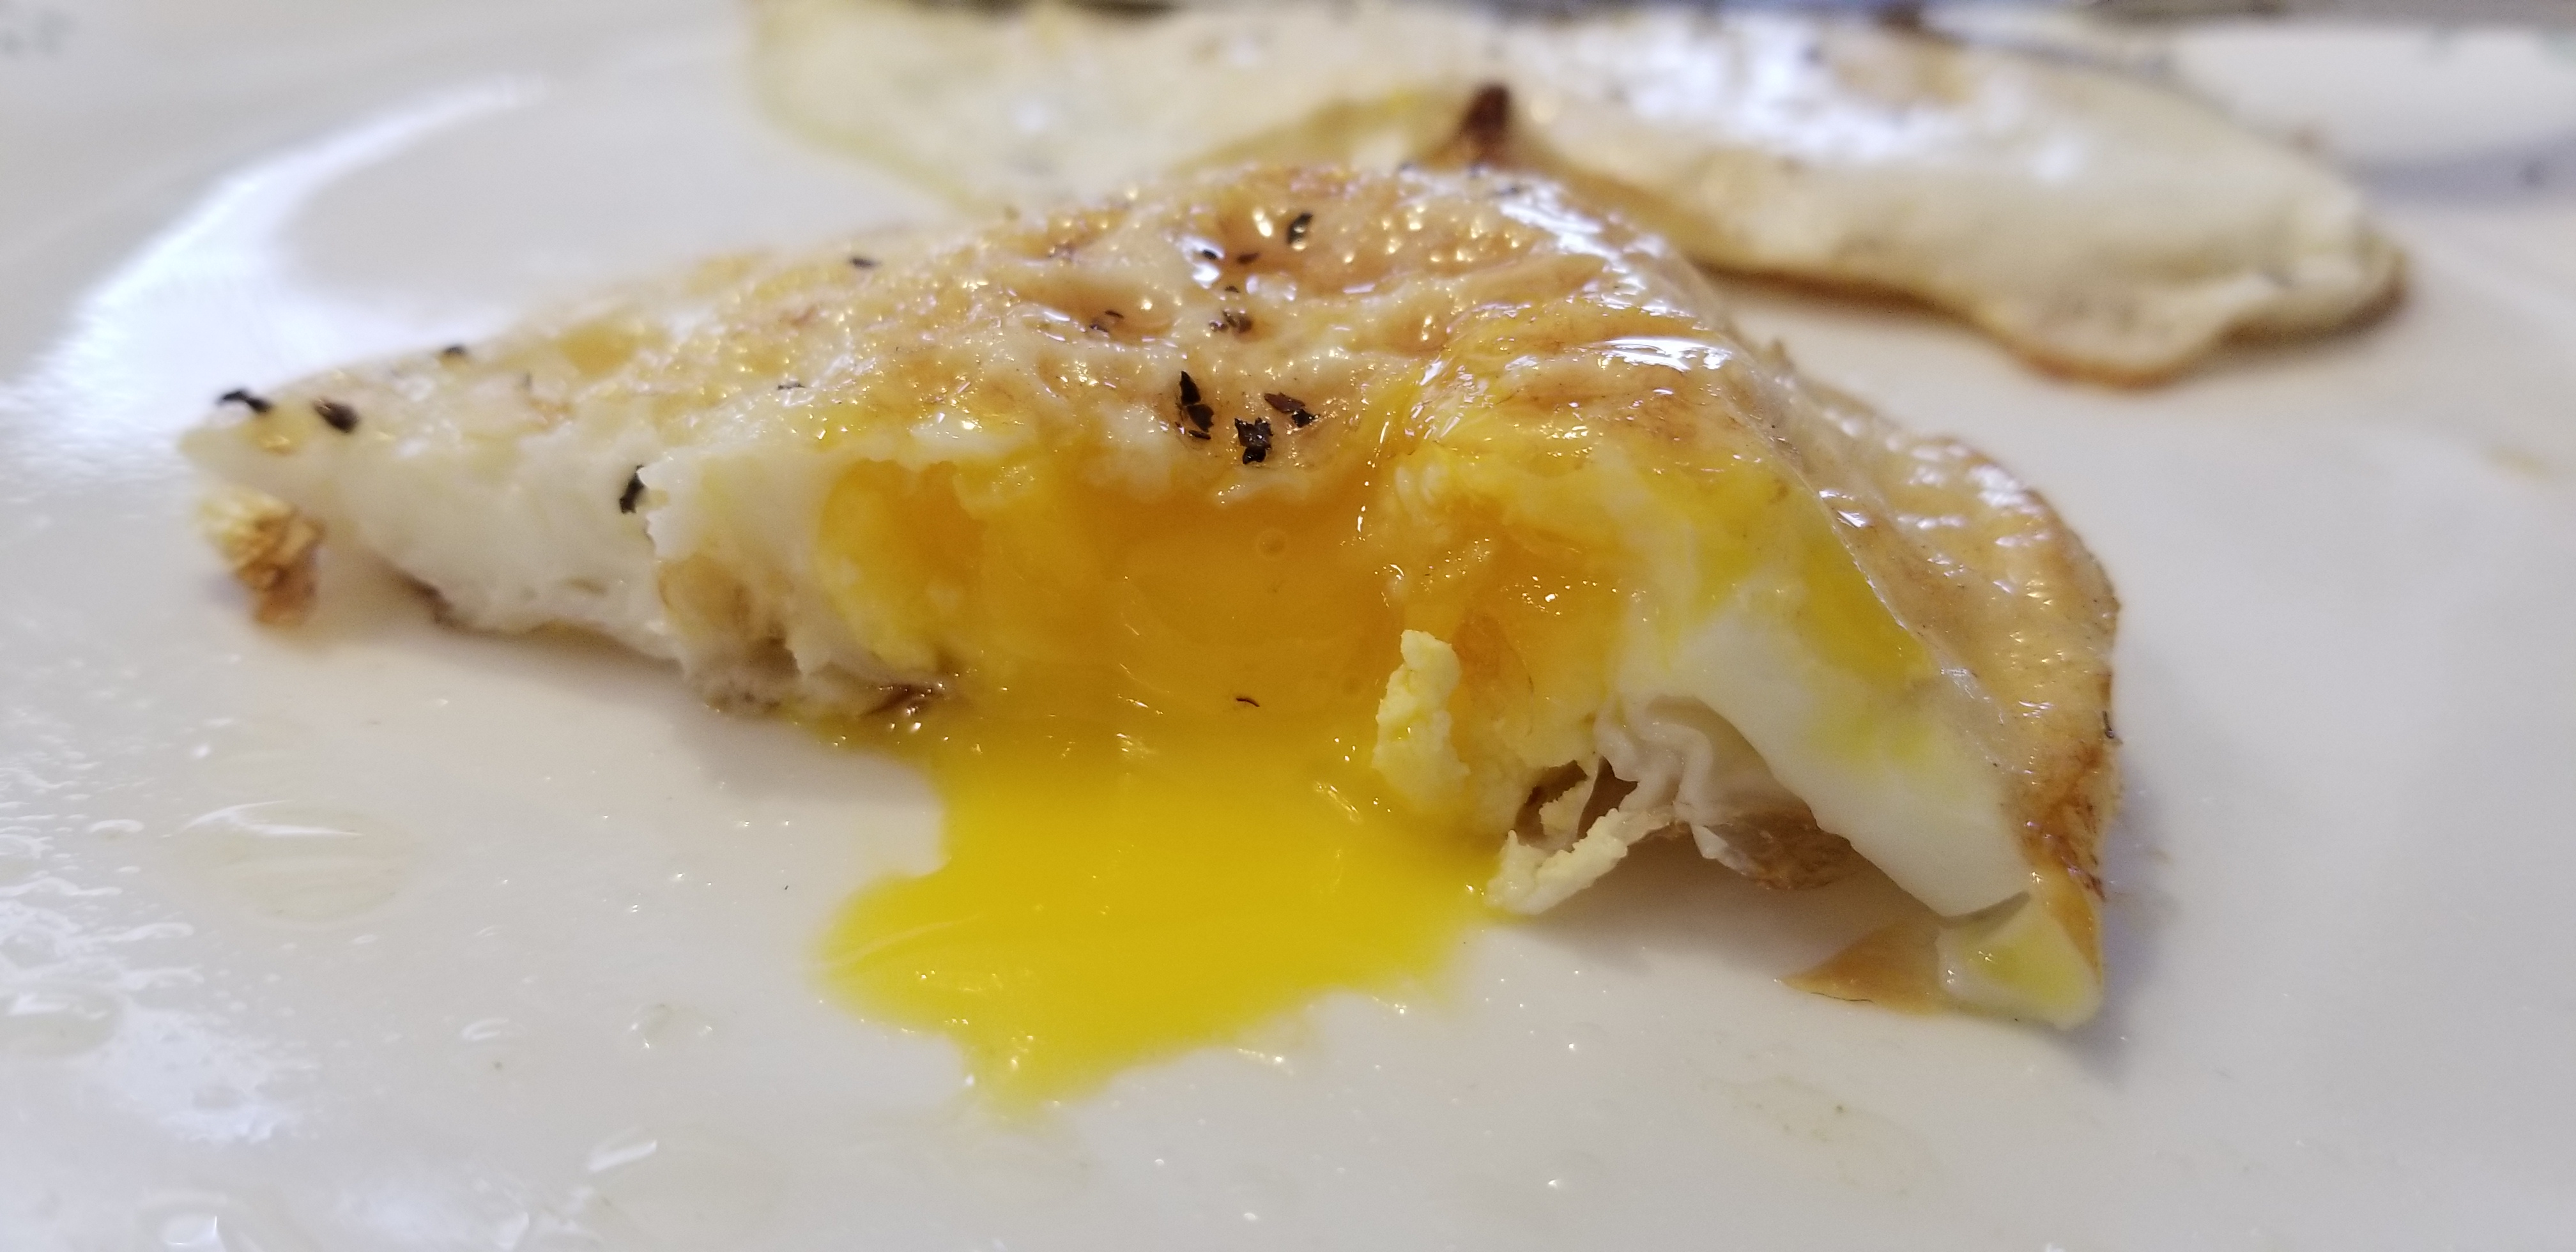fried egg: (187, 158, 2147, 1043)
